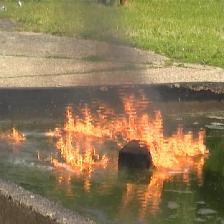fire: (51, 96, 211, 169), (3, 120, 25, 143)
